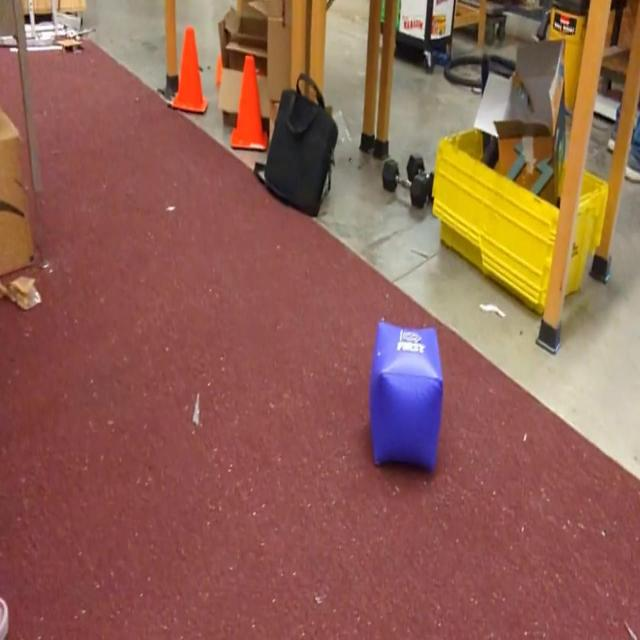frc_cube: (367, 319, 445, 473)
